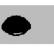correct: (0, 14, 34, 42)
